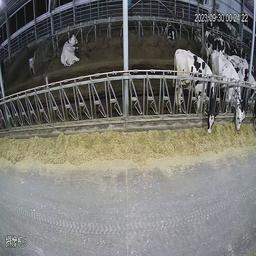cow: (175, 49, 216, 136), (217, 51, 243, 133), (60, 32, 80, 68), (157, 20, 177, 42)
